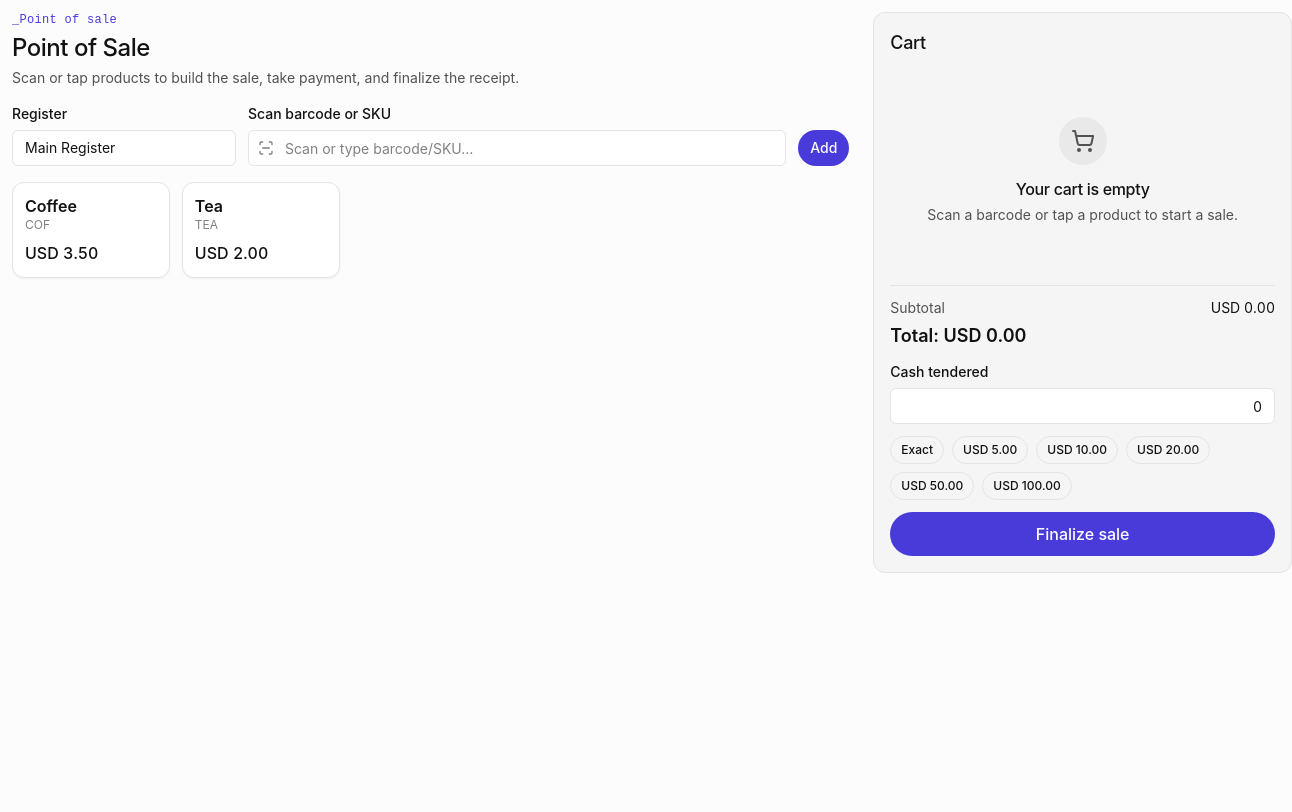
Test: POSPage › adds an item to the cart from the grid and accumulates quantity
The image size is (1292, 812).
Click the button "Coffee COF USD 3.50". click: (91, 230)
box: [12,182,170,278]
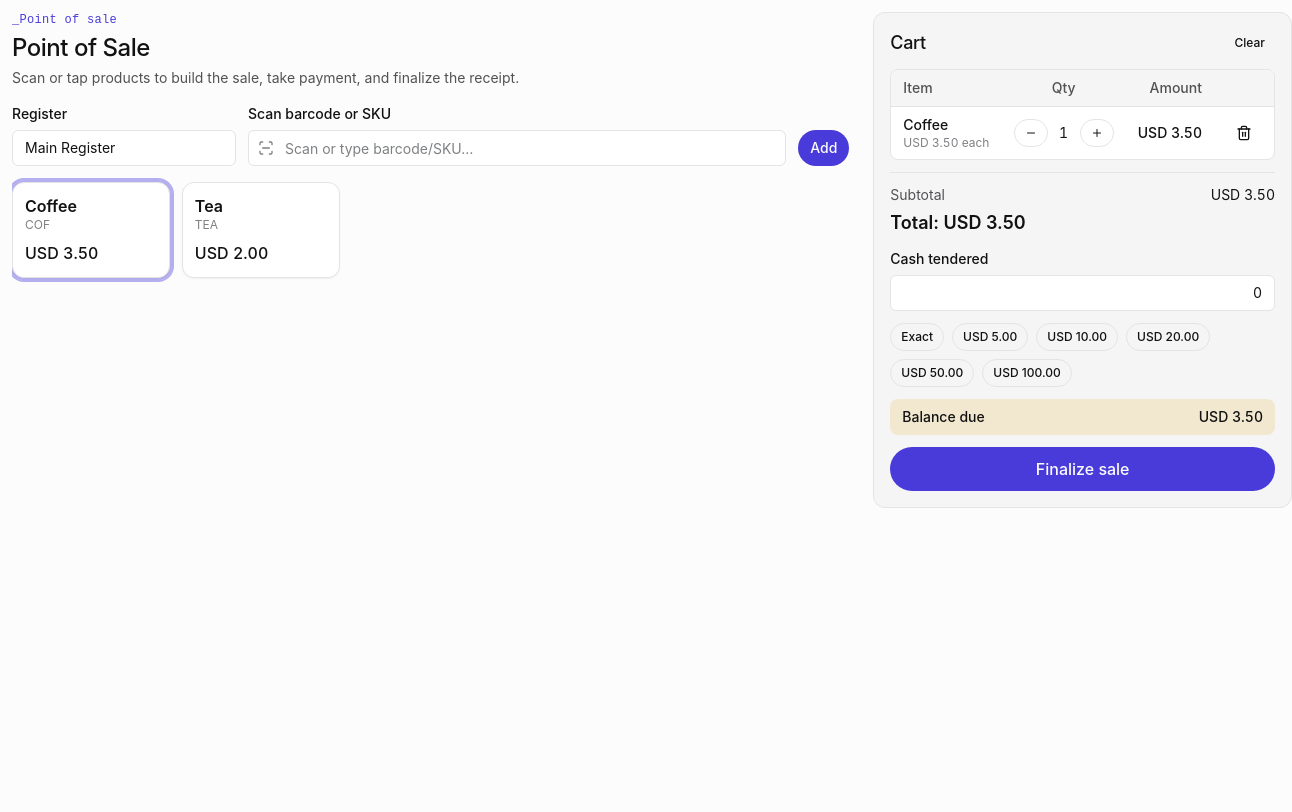
Click the button "Coffee COF USD 3.50". click: (91, 230)
box: [12,182,170,278]
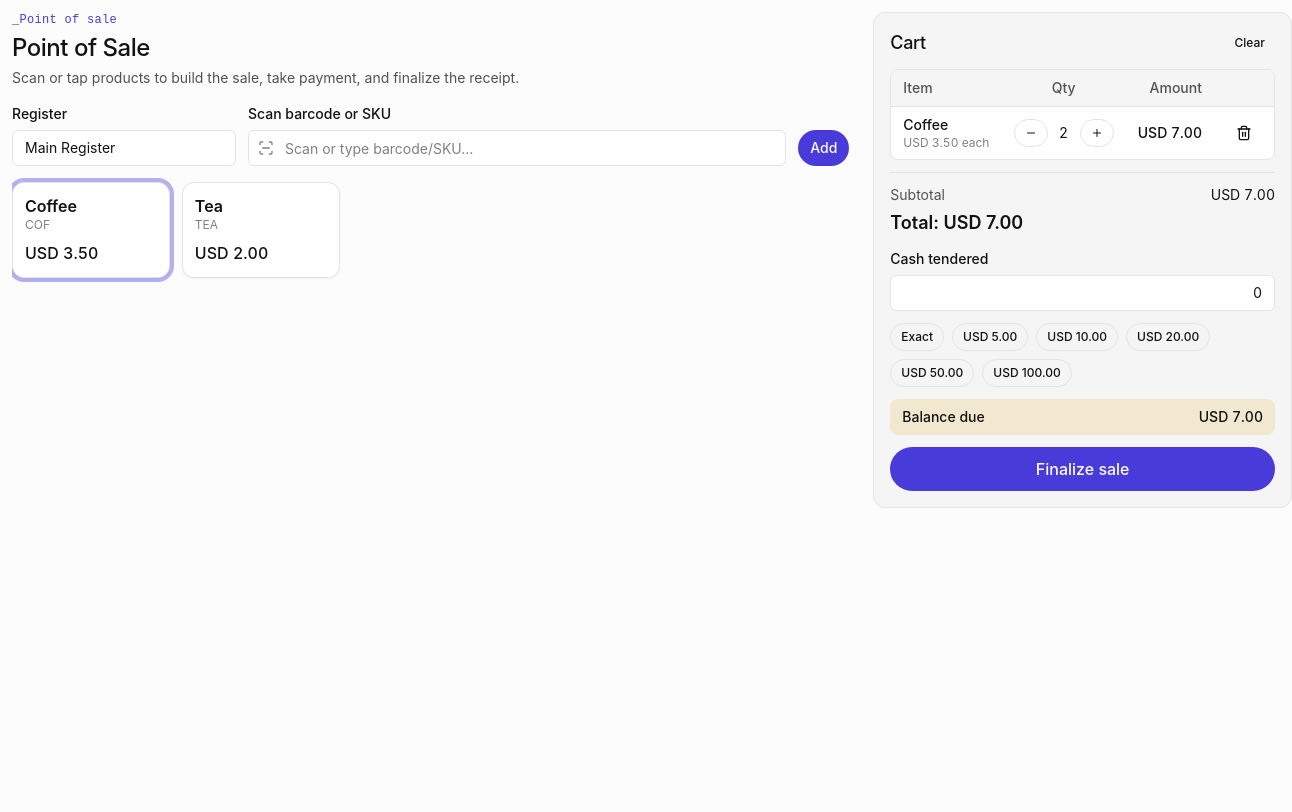
Expected: the text "Total: USD 7.00" is shown, [890,212,1023,232]
